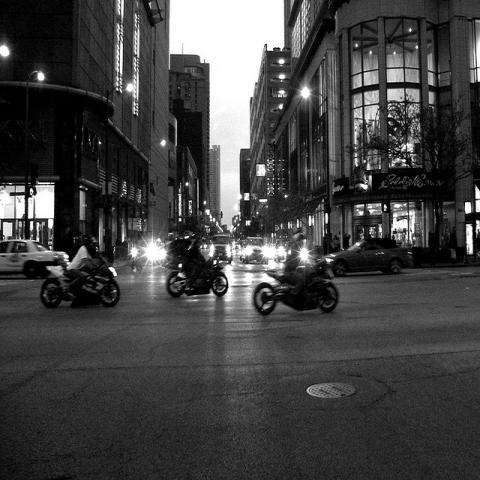car: (325, 239, 414, 276), (0, 238, 70, 278), (137, 240, 166, 266), (243, 237, 269, 264), (210, 234, 231, 261), (228, 238, 243, 264), (274, 239, 290, 262)
motorcycle: (253, 258, 342, 318), (39, 260, 120, 308), (166, 253, 228, 298)
